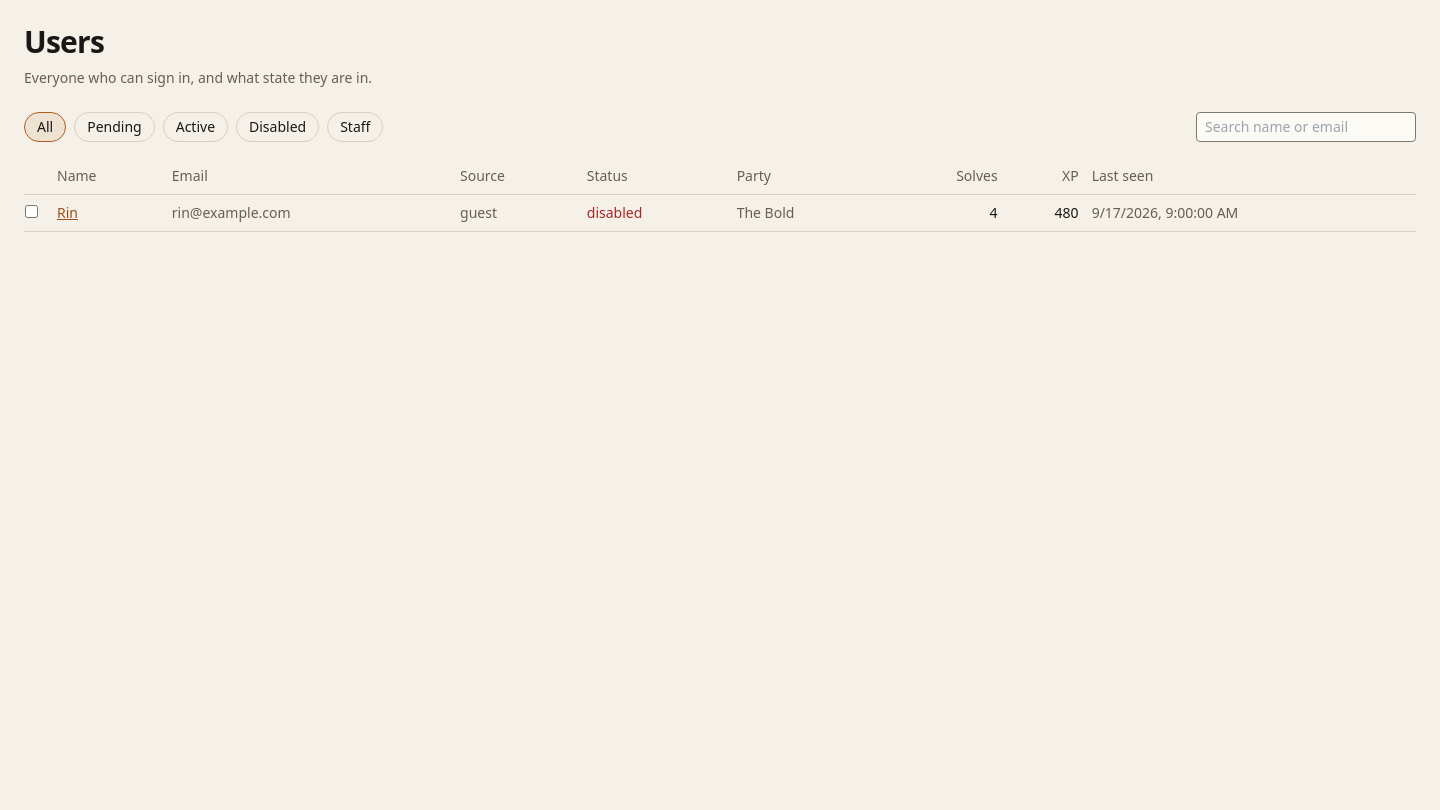
Test: AdminUsersPage › offers re-enable for a disabled account, and disable otherwise
Click the button "Rin" at (68, 213), box [57, 203, 78, 223]
(page scrolled)
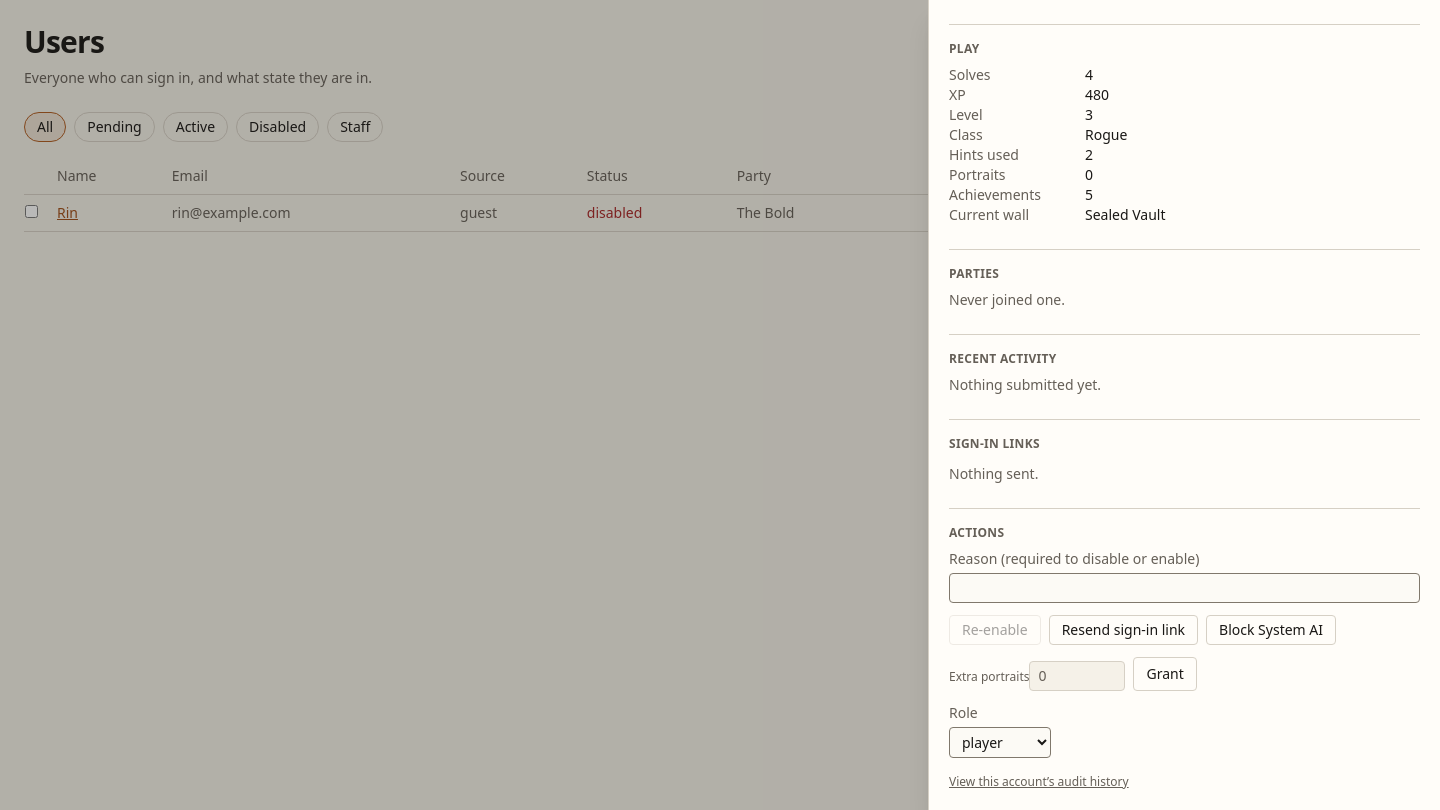
Check: the button "Re-enable" is shown, box [949, 615, 1041, 645]
